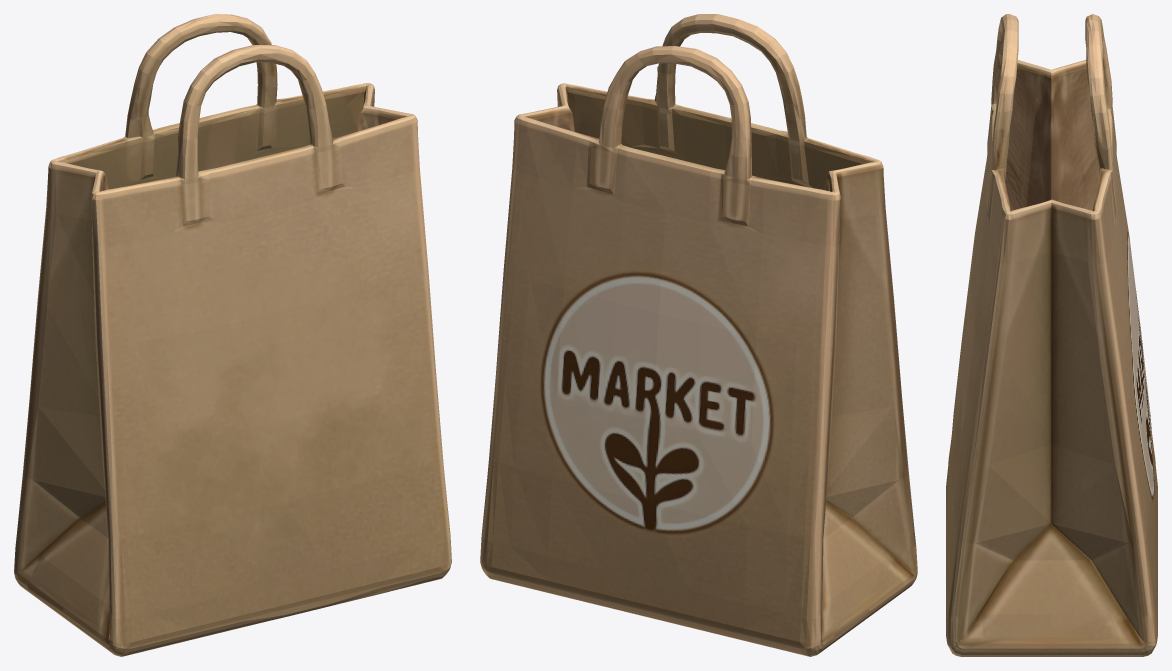
File: Market_bag.glb
3 renders of one model, left to right at view 1: azimuth 30°, elevation 25°; view 2: azimuth 150°, elevation 25°; view 3: azimuth 270°, elevation 25°, orthographic.
Visible parts, largest first — view 1: Mesh_0; view 2: Mesh_0; view 3: Mesh_0.
Boxes of the visible parts, bbox=[...] form: Mesh_0: bbox=[14, 14, 451, 656]; Mesh_0: bbox=[480, 14, 917, 656]; Mesh_0: bbox=[946, 14, 1157, 656].
Bounding box in the file's own units: 0.161 × 0.25 × 0.0869.
Materials: 1 (1 with a texture image).
